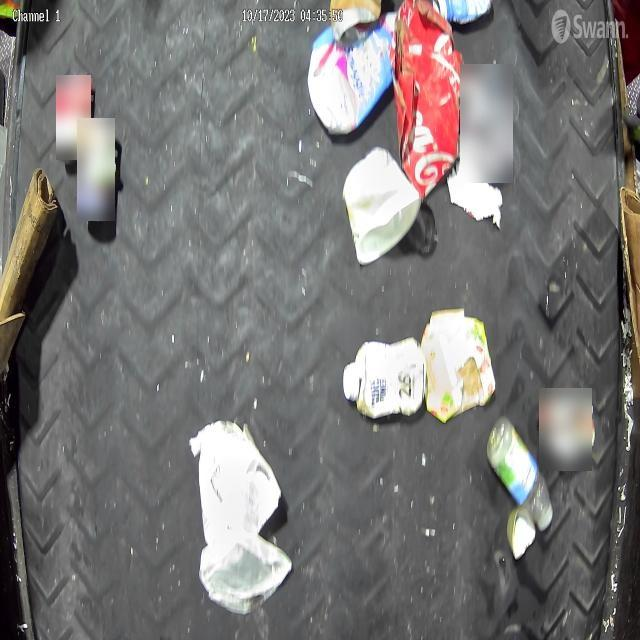non_white_jug: (307, 20, 393, 138)
plastic_bottle: (486, 414, 556, 528)
